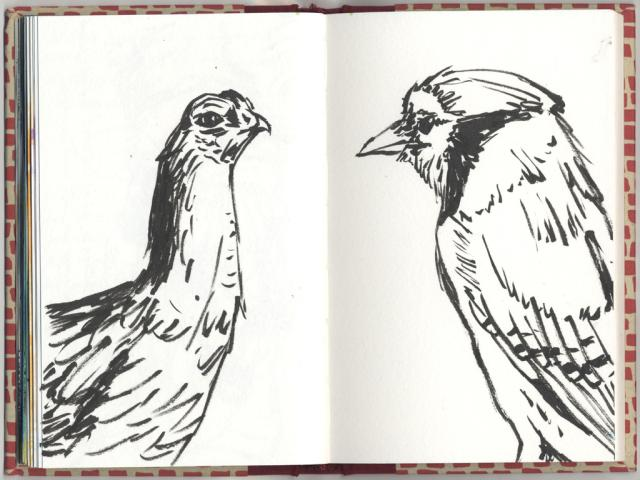Bird: (353, 61, 622, 462), (39, 87, 274, 466)
